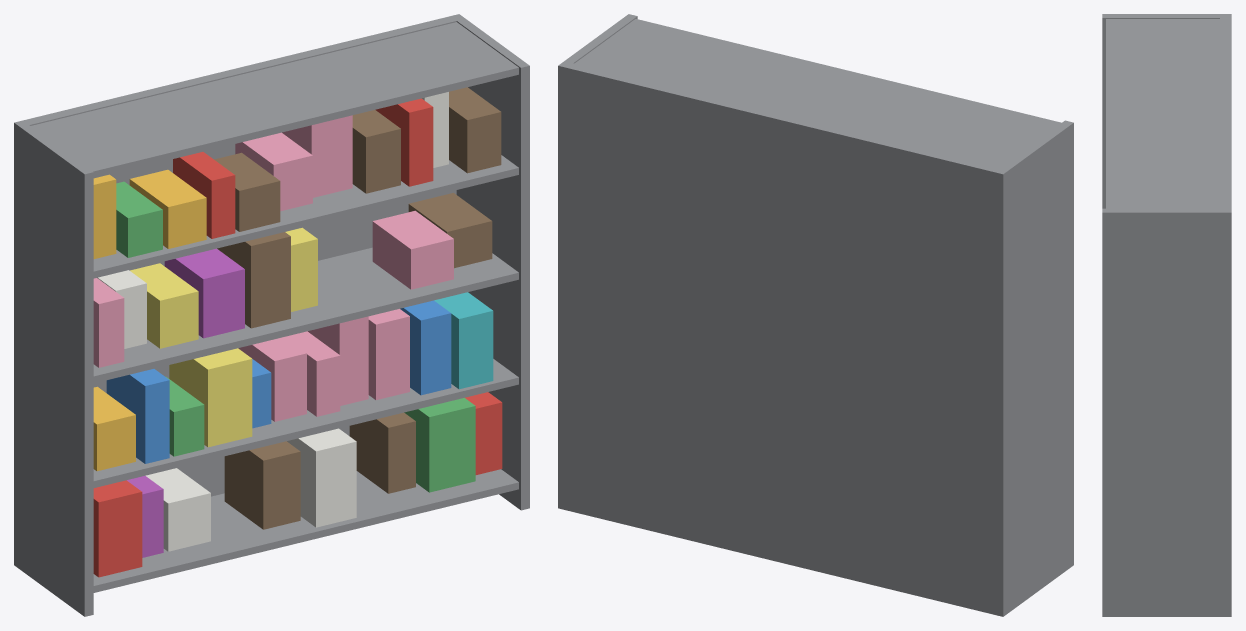
File: grocery_shelf.glb
3 renders of one model, left to right at view 1: azimuth 30°, elevation 25°; view 2: azimuth 150°, elevation 25°; view 3: azimuth 270°, elevation 25°, orthographic. The views are drawn at different scales.
Parts seen in each view (by area): view 1: grocery_shelf; view 2: grocery_shelf; view 3: grocery_shelf.
Part boxes in pixels (x1,y1,x2,y2): grocery_shelf: [14, 14, 529, 616]; grocery_shelf: [558, 14, 1073, 616]; grocery_shelf: [1102, 14, 1231, 616].
Bounding box in the file's own units: 2 × 1.9 × 0.55.
